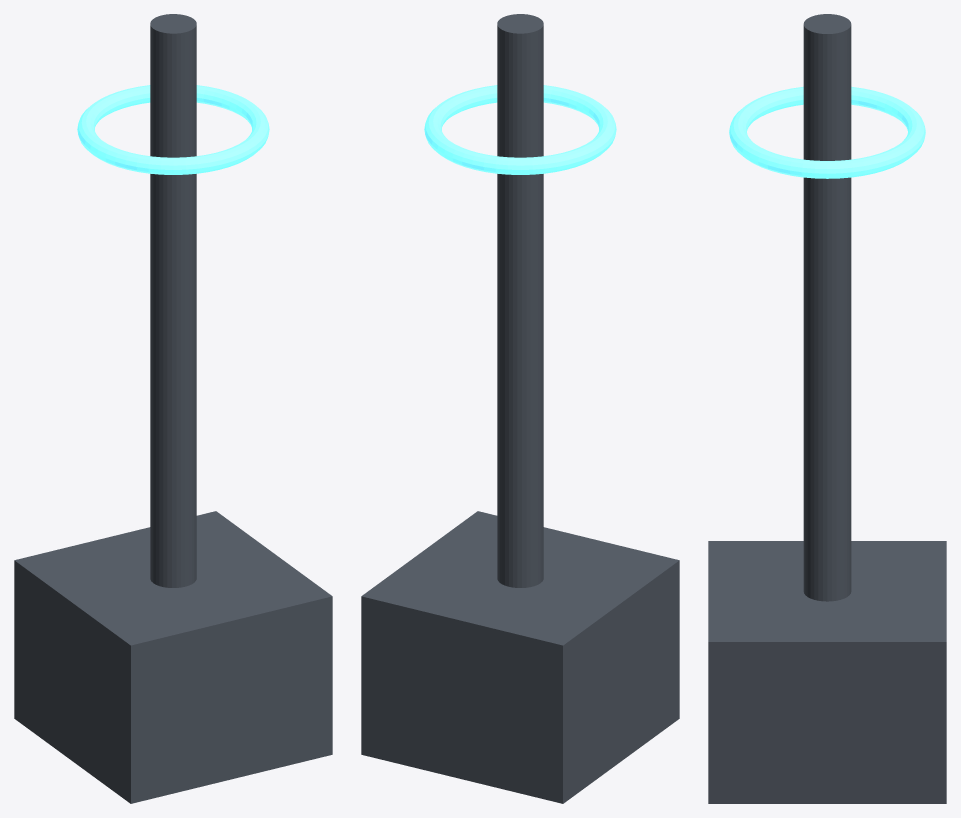
Rendered from prop_jammer_antenna.glb.
3 views of the same model, side by side, from view 1: azimuth 30°, elevation 25°; view 2: azimuth 150°, elevation 25°; view 3: azimuth 270°, elevation 25° (orthographic). The views are drawn at different scales.
Parts seen in each view (by area): view 1: JammerAntenna; view 2: JammerAntenna; view 3: JammerAntenna.
Part boxes in pixels (x1,y1,x2,y2): JammerAntenna: [14, 14, 332, 803]; JammerAntenna: [361, 14, 679, 803]; JammerAntenna: [708, 14, 946, 803].
Bounding box in the file's own units: 0.8 × 2.7 × 0.8.
